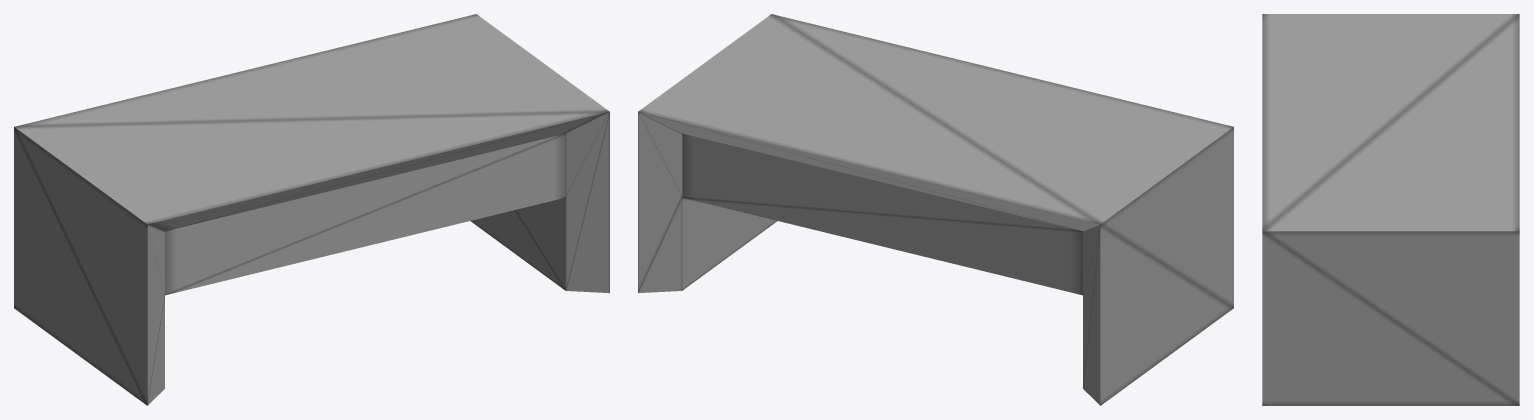
3 renders of one model, left to right at view 1: azimuth 30°, elevation 25°; view 2: azimuth 150°, elevation 25°; view 3: azimuth 270°, elevation 25°, orthographic. The views are drawn at different scales.
Visible parts, largest first — view 1: world; view 2: world; view 3: world.
Part boxes in pixels (bbox=[...]): world: bbox=[14, 14, 609, 405]; world: bbox=[638, 14, 1233, 405]; world: bbox=[1262, 14, 1519, 405].
Bounding box in the file's own units: 1.7 × 0.636 × 0.848.
Materials: 1 (1 with a texture image).
